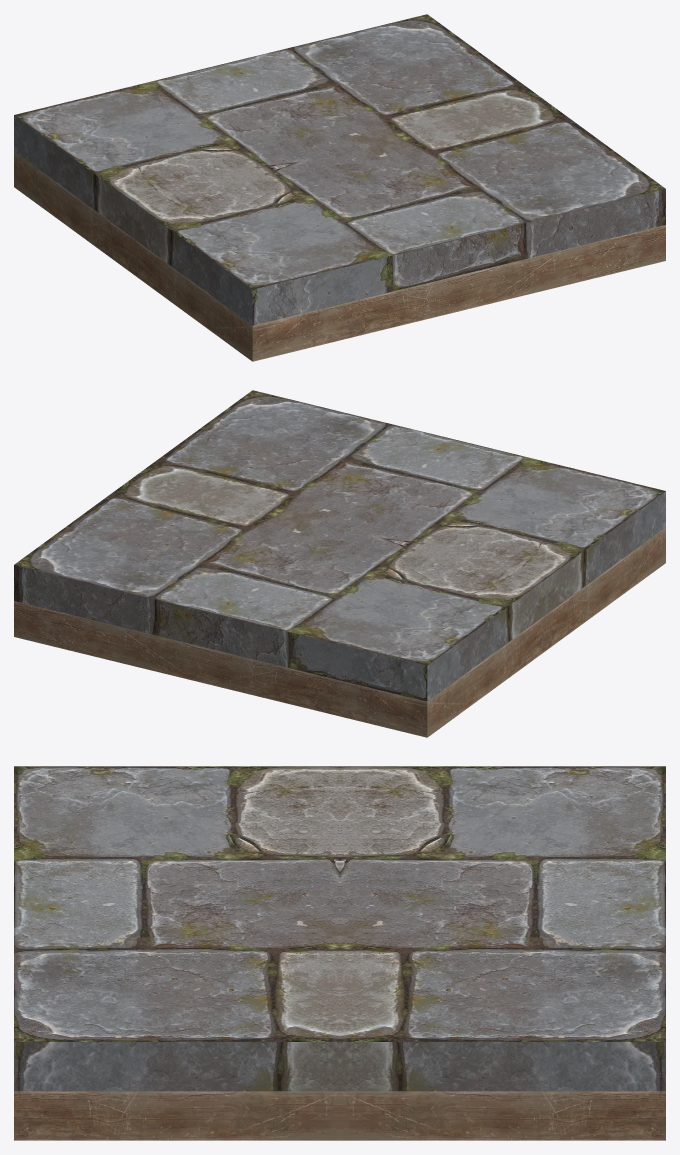
The picture shows the model from 3 angles, top to bottom: view 1: azimuth 30°, elevation 25°; view 2: azimuth 150°, elevation 25°; view 3: azimuth 270°, elevation 25°; orthographic projection. The views are drawn at different scales.
Visible parts, largest first — view 1: SM_Greathall_Floor_3x3_01_LOD0; view 2: SM_Greathall_Floor_3x3_01_LOD0; view 3: SM_Greathall_Floor_3x3_01_LOD0.
Part boxes in pixels (left/top/right/bottom): SM_Greathall_Floor_3x3_01_LOD0: left=14, top=14, right=665, bottom=361; SM_Greathall_Floor_3x3_01_LOD0: left=14, top=390, right=665, bottom=737; SM_Greathall_Floor_3x3_01_LOD0: left=14, top=766, right=665, bottom=1140.
Bounding box in the file's own units: 3 × 0.5 × 3.
2 materials, 2 textured.
